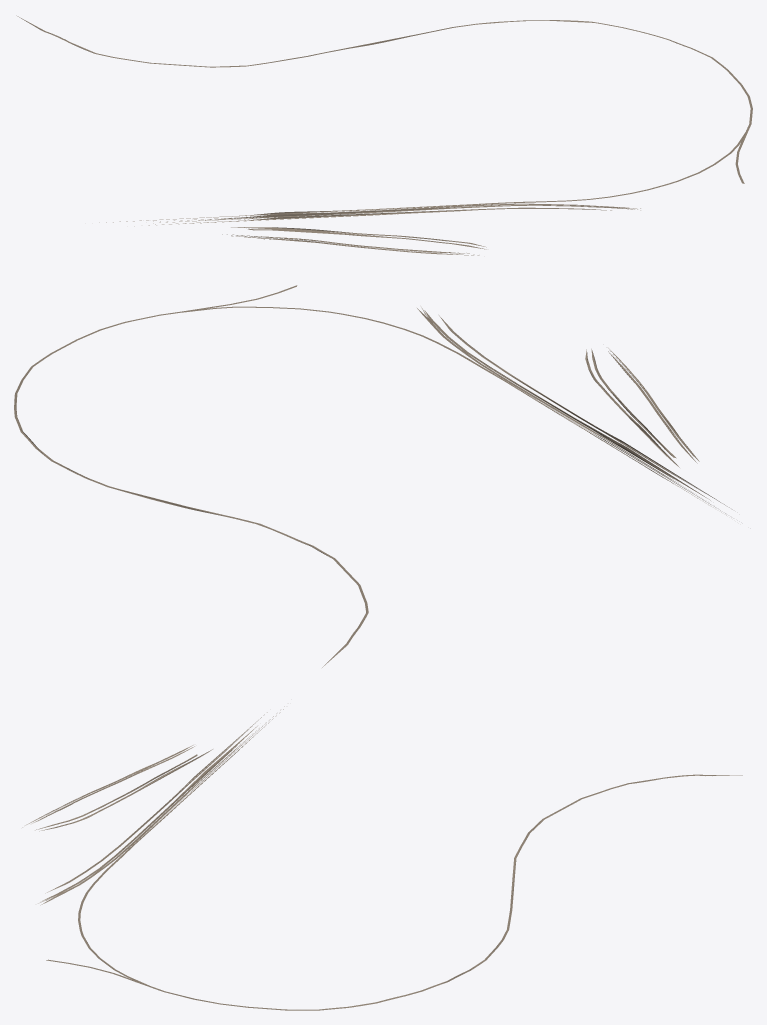
Rendered from rail_1_1.glb.
3 views of the same model, one above another, from view 1: azimuth 30°, elevation 25°; view 2: azimuth 150°, elevation 25°; view 3: azimuth 270°, elevation 25° (orthographic). The views are drawn at different scales.
Visible parts, largest first — view 1: geometry_0; view 2: geometry_0; view 3: geometry_0.
Part boxes in pixels (x1,y1,x2,y2): geometry_0: [16, 15, 752, 255]; geometry_0: [14, 285, 732, 667]; geometry_0: [22, 706, 742, 1010].
Bounding box in the file's own units: 1108 × 7.89 × 1105.
